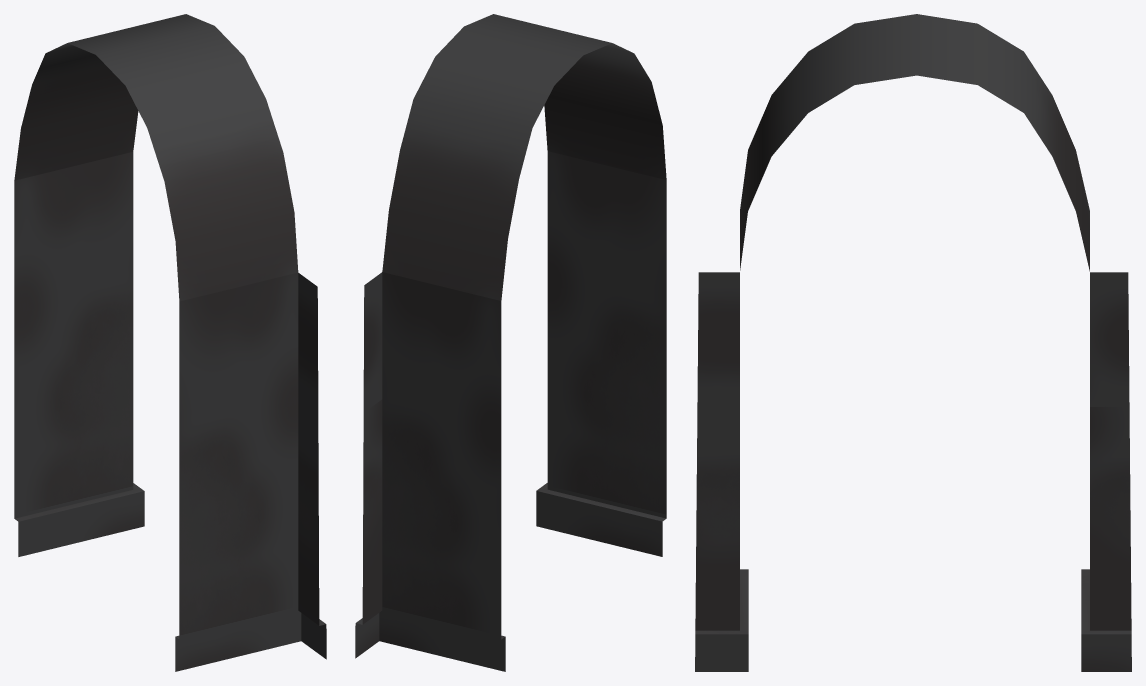
Rendered from SM_Arched_wall_outer.fbx.
3 renders of one model, left to right at view 1: azimuth 30°, elevation 25°; view 2: azimuth 150°, elevation 25°; view 3: azimuth 270°, elevation 25°, orthographic. The views are drawn at different scales.
Parts seen in each view (by area): view 1: Arched_wall_outer; view 2: Arched_wall_outer; view 3: Arched_wall_outer.
Boxes of the visible parts, <box> form: Arched_wall_outer: <box>14,14,326,671</box>; Arched_wall_outer: <box>355,14,666,671</box>; Arched_wall_outer: <box>695,14,1131,671</box>.
Size of the model in its own units: 106 by 449 by 300.
